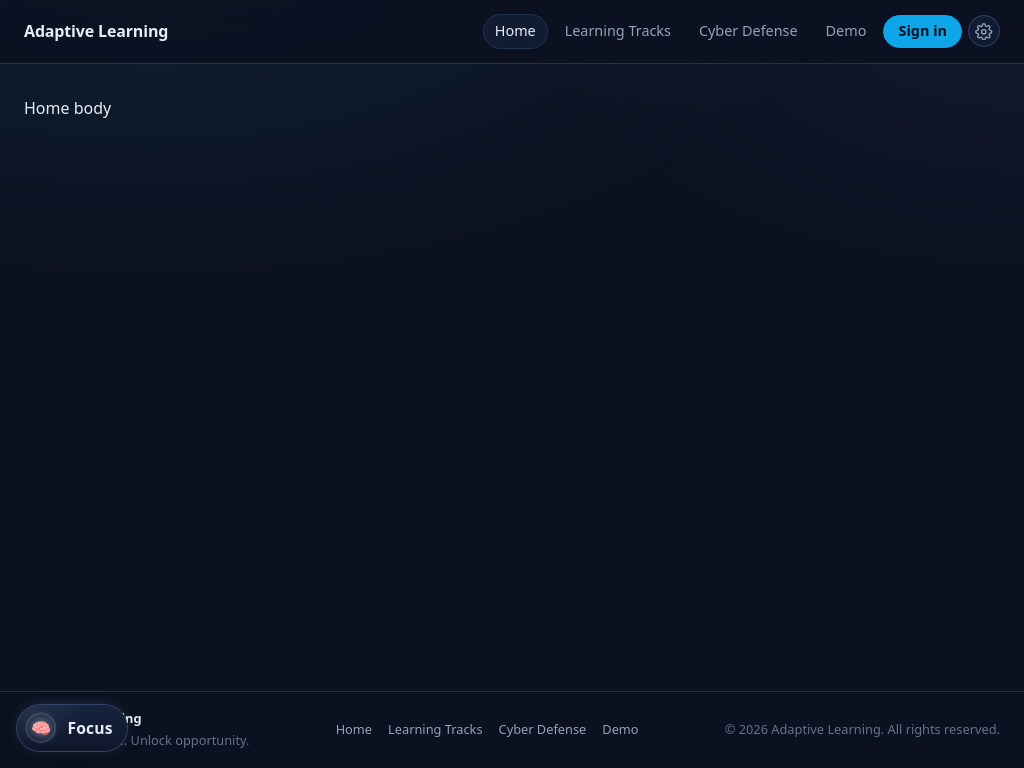
Test: AppShell authentication UI › navigates to the settings page from the gear
Click the link named "Settings" at (984, 31), box [968, 15, 1000, 47]
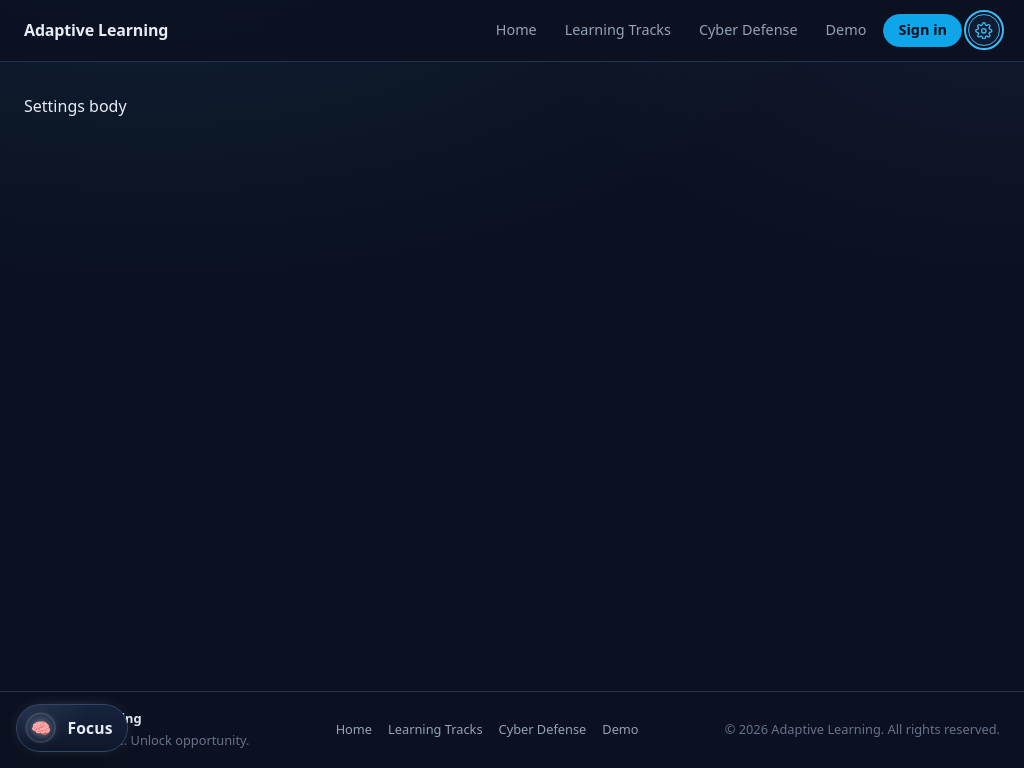
Expected: the text "Settings body" is shown, [24, 95, 127, 117]
